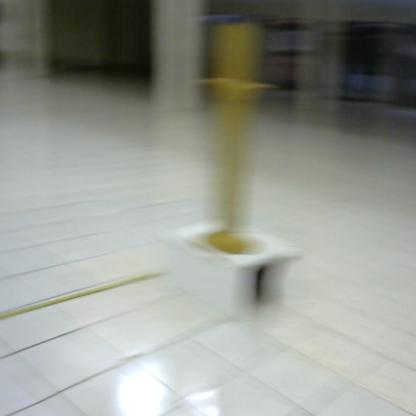pole: (191, 18, 276, 264)
